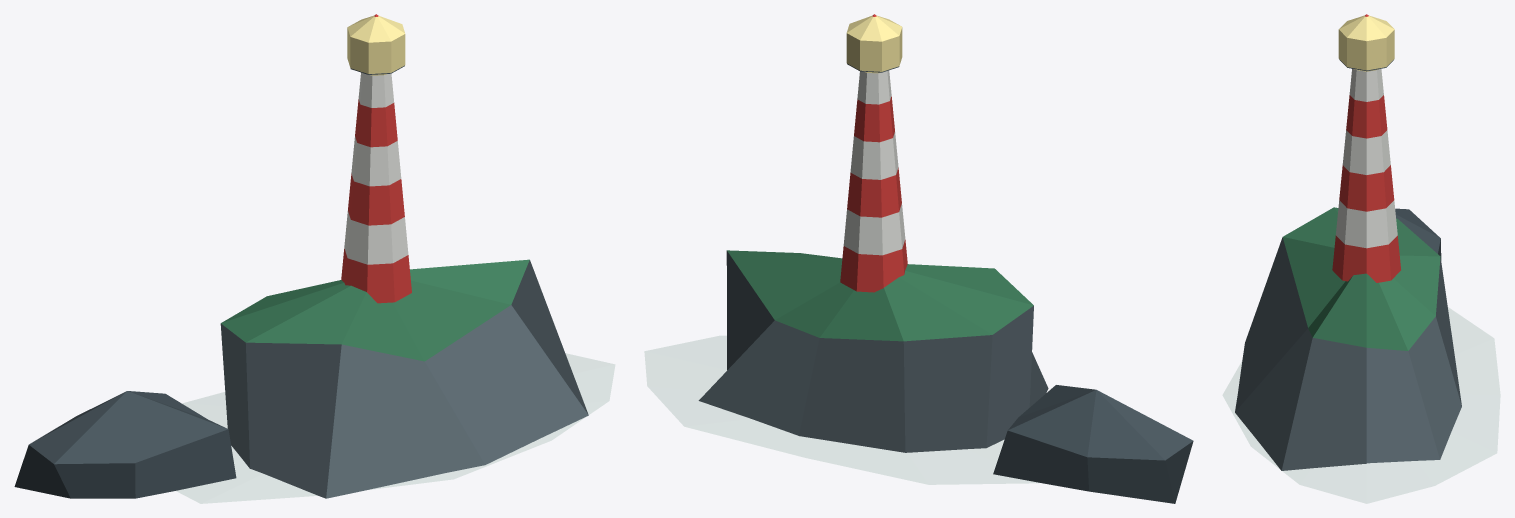
File: W2_Far_Lighthouse.fbx
3 views of the same model, side by side, from view 1: azimuth 30°, elevation 25°; view 2: azimuth 150°, elevation 25°; view 3: azimuth 270°, elevation 25° (orthographic). The views are drawn at different scales.
Parts seen in each view (by area): view 1: W2_Far_Lighthouse; view 2: W2_Far_Lighthouse; view 3: W2_Far_Lighthouse.
Part boxes in pixels (x1,y1,x2,y2): W2_Far_Lighthouse: (14,14,615,503); W2_Far_Lighthouse: (644,14,1193,503); W2_Far_Lighthouse: (1222,14,1500,503).
Bounding box in the file's own units: 144 × 97.7 × 64.64.
